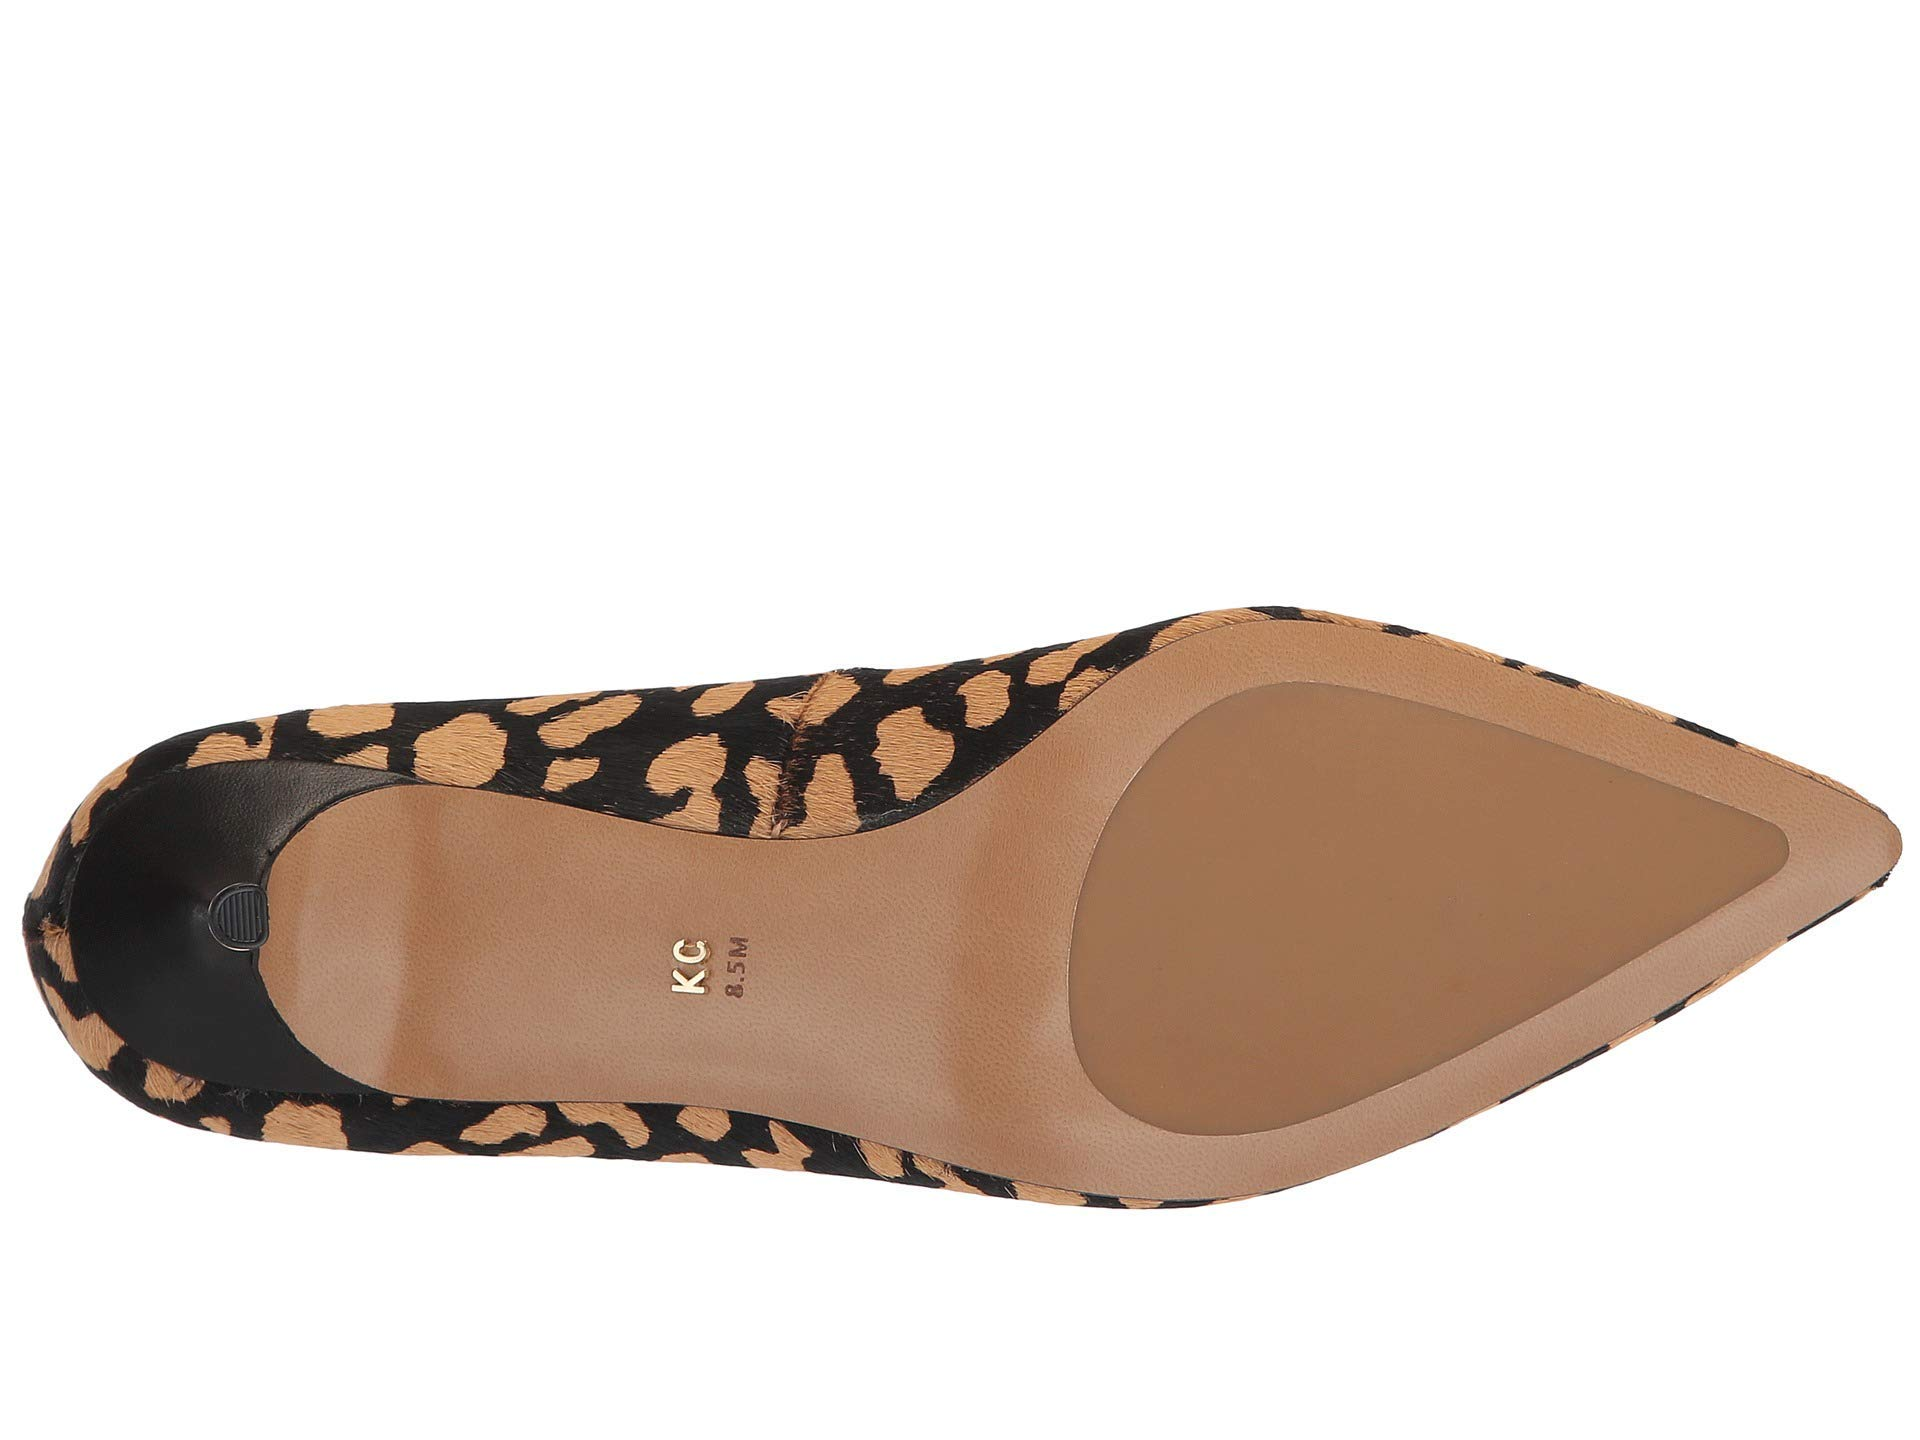exclude: (284, 641, 1049, 1204)
line: (212, 880, 268, 951)
